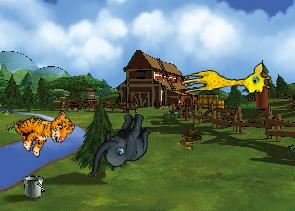elephant: (87, 107, 153, 184)
giraffe: (179, 61, 272, 105)
tiger: (8, 95, 78, 163)
